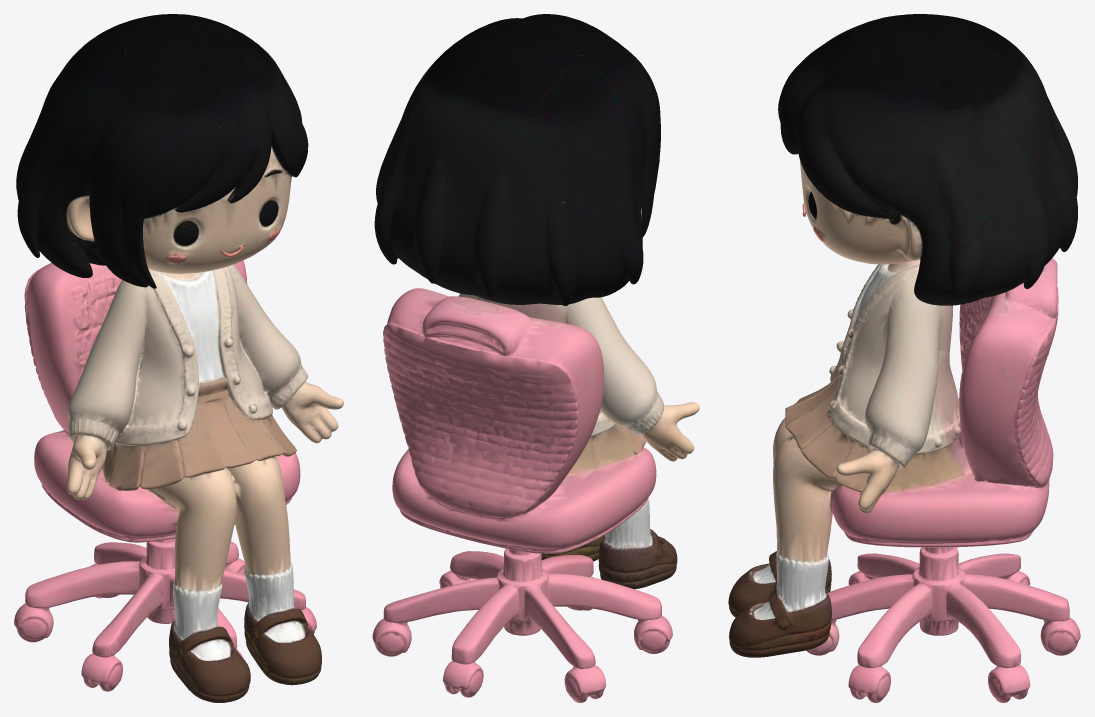
File: seat_female.glb
3 renders of one model, left to right at view 1: azimuth 30°, elevation 25°; view 2: azimuth 150°, elevation 25°; view 3: azimuth 270°, elevation 25°, orthographic. The views are drawn at different scales.
Size of the model in its own units: 0.868 by 1.9 by 0.9706.
1 material, 1 textured.
